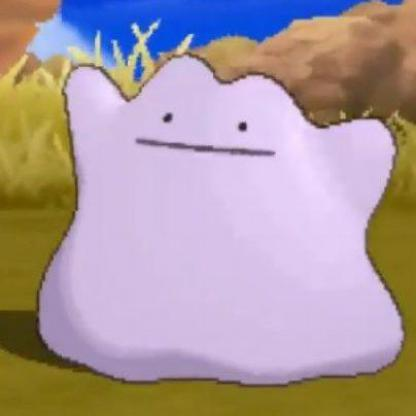Ditto: (1, 1, 416, 404)
